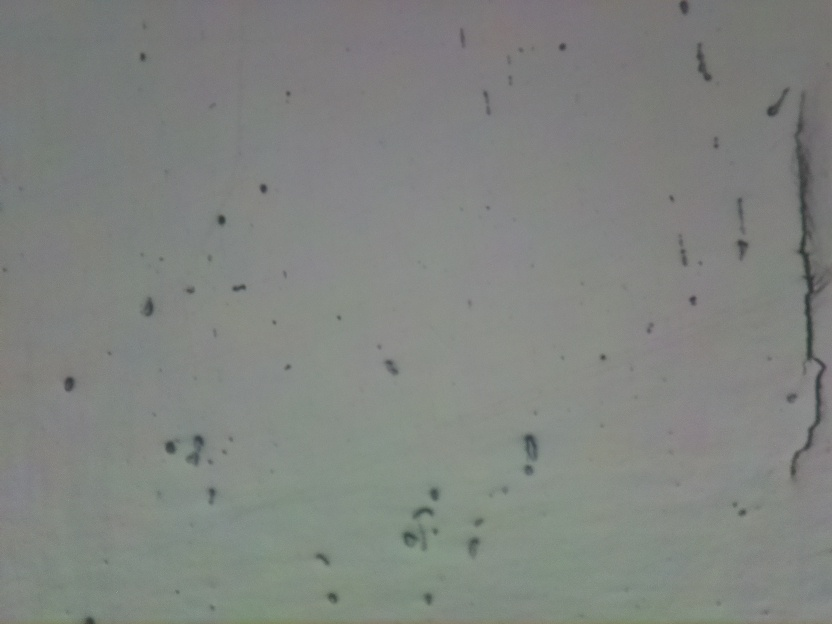crack: (789, 92, 825, 479)
